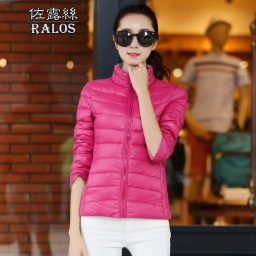face: (112, 5, 166, 78)
